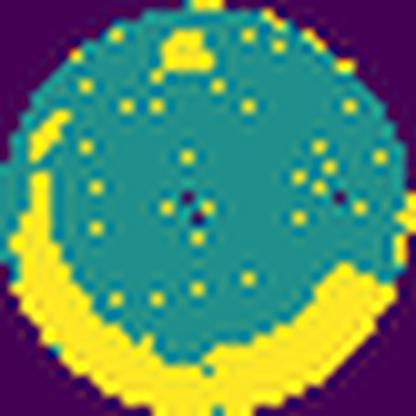Edge-Loc: (0, 168, 415, 416)
